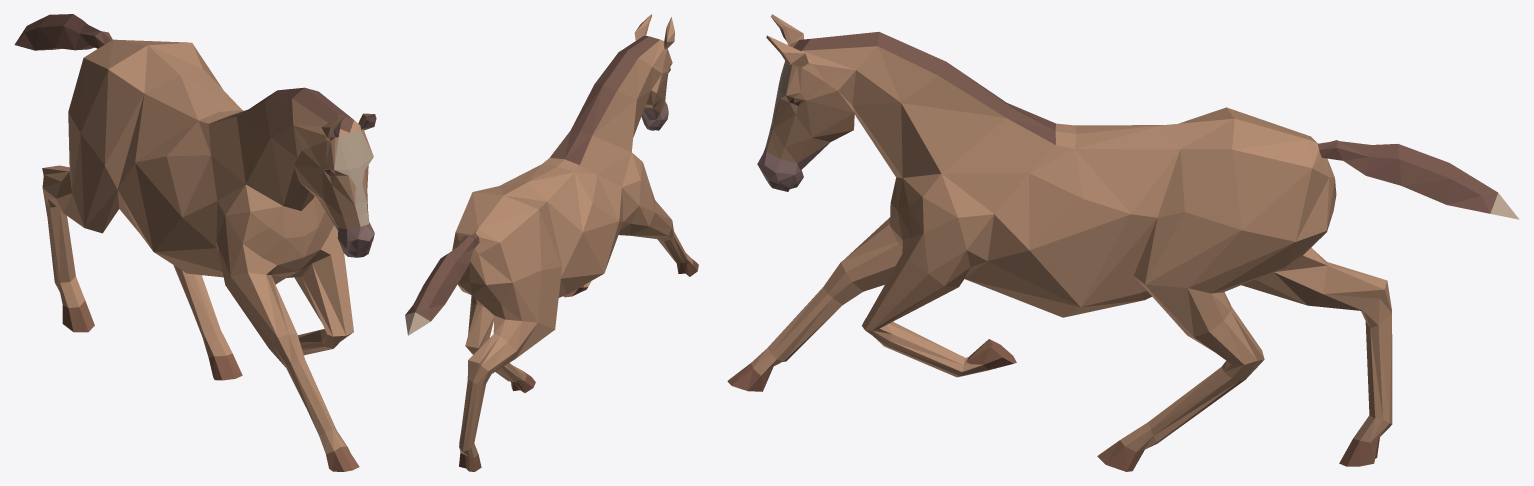
File: Horse.glb
3 views of the same model, side by side, from view 1: azimuth 30°, elevation 25°; view 2: azimuth 150°, elevation 25°; view 3: azimuth 270°, elevation 25° (orthographic). The views are drawn at different scales.
Visible parts, largest first — view 1: mesh_0; view 2: mesh_0; view 3: mesh_0.
Boxes of the visible parts, <box> form: mesh_0: <box>14,14,376,471</box>; mesh_0: <box>405,14,698,471</box>; mesh_0: <box>727,14,1519,471</box>.
Size of the model in its own units: 62.27 by 181 by 290.
